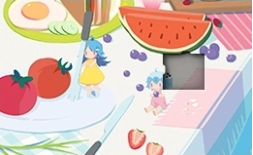gap: (164, 51, 204, 89)
